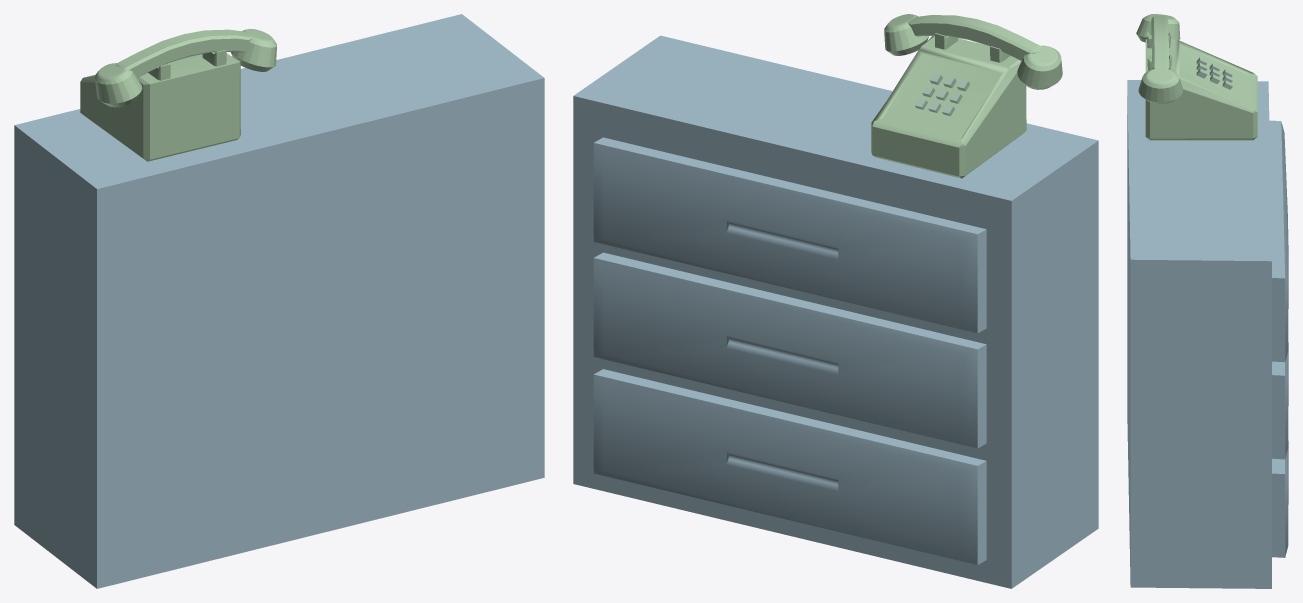
File: CabinateSet.fbx
3 views of the same model, side by side, from view 1: azimuth 30°, elevation 25°; view 2: azimuth 150°, elevation 25°; view 3: azimuth 270°, elevation 25° (orthographic). The views are drawn at different scales.
Visible parts, largest first — view 1: Cabinate, TelephoneBase, TelephoneSpeaker; view 2: Cabinate, TelephoneBase, TelephoneSpeaker, TelephoneKeys; view 3: Cabinate, TelephoneBase, TelephoneSpeaker, TelephoneKeys.
Boxes of the visible parts, box(x1,y1,x2,y2) form: Cabinate: box(14, 14, 544, 588); TelephoneBase: box(80, 50, 240, 161); TelephoneSpeaker: box(95, 28, 276, 107); Cabinate: box(573, 35, 1098, 588); TelephoneBase: box(871, 33, 1026, 178); TelephoneSpeaker: box(884, 14, 1062, 89); TelephoneKeys: box(915, 73, 969, 115); Cabinate: box(1127, 80, 1288, 588); TelephoneBase: box(1145, 32, 1257, 140); TelephoneSpeaker: box(1136, 14, 1182, 103); TelephoneKeys: box(1196, 57, 1232, 89).
Bounding box in the file's own units: 1521 × 1637 × 573.
